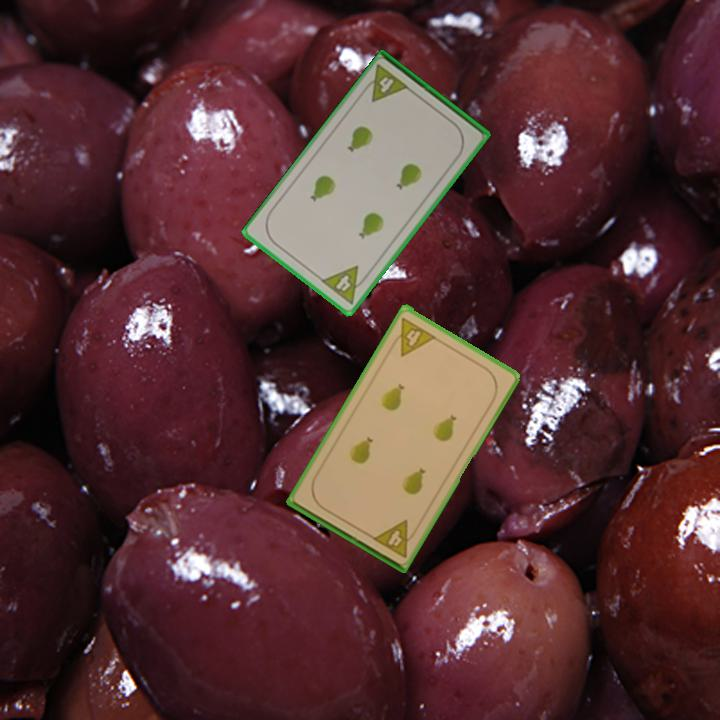4p: (317, 262, 372, 307), (386, 314, 439, 359), (358, 61, 412, 105), (369, 516, 421, 561)
